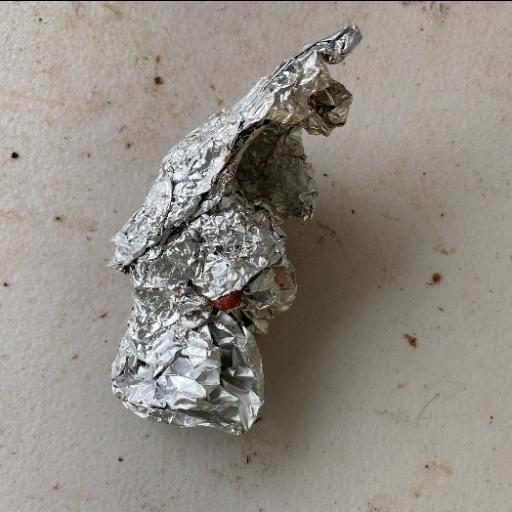Metal: (106, 22, 364, 436)
